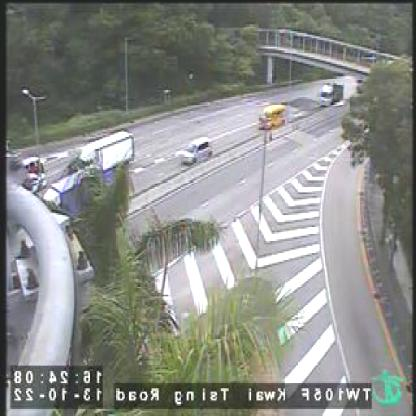Car: (182, 138, 216, 166), (258, 102, 286, 130)
Truck: (75, 129, 135, 176), (318, 74, 357, 106)
